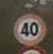limite 40: (10, 12, 47, 47)
